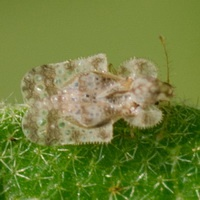insect: (21, 54, 172, 144)
